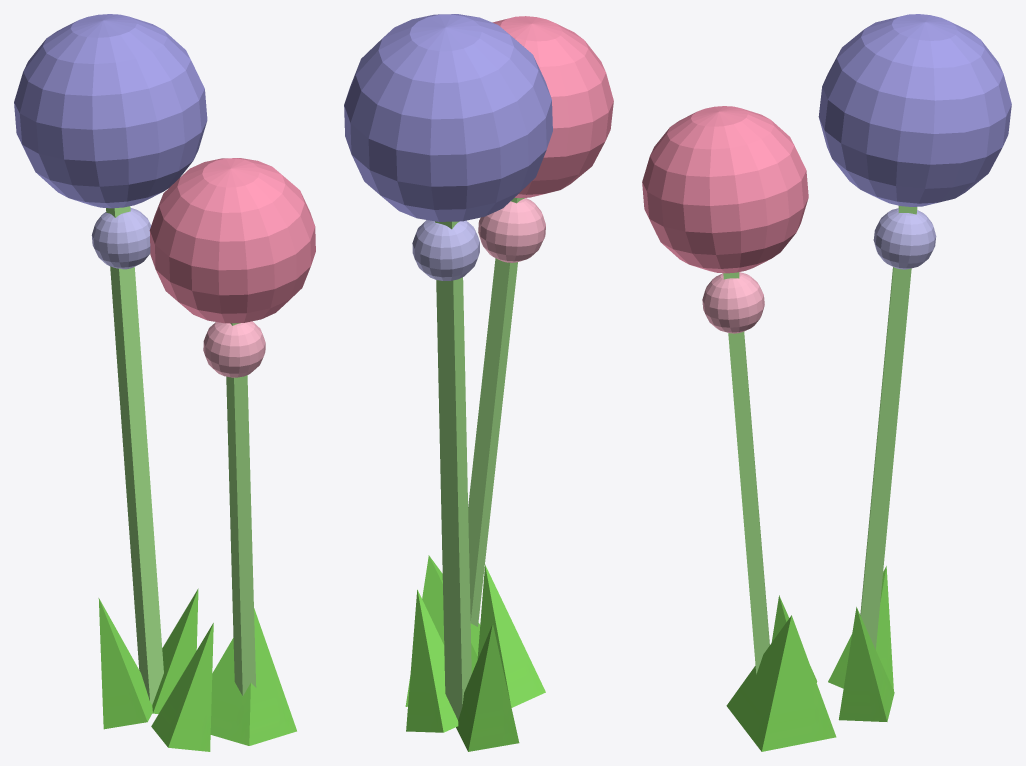
Rendered from 2fleursviolet.FBX.
3 renders of one model, left to right at view 1: azimuth 30°, elevation 25°; view 2: azimuth 150°, elevation 25°; view 3: azimuth 270°, elevation 25°, orthographic. The views are drawn at different scales.
Visible parts, largest first — view 1: GroupePlante03, GroupePlante003; view 2: GroupePlante03, GroupePlante003; view 3: GroupePlante03, GroupePlante003.
Boxes of the visible parts, left/top/right/bottom form: GroupePlante03: left=14, top=14, right=315, bottom=704; GroupePlante003: left=98, top=588, right=296, bottom=751; GroupePlante03: left=344, top=14, right=613, bottom=719; GroupePlante003: left=405, top=555, right=545, bottom=751; GroupePlante03: left=642, top=14, right=1011, bottom=674; GroupePlante003: left=726, top=566, right=894, bottom=751.
Size of the model in its own units: 12.22 by 41.34 by 20.51.
